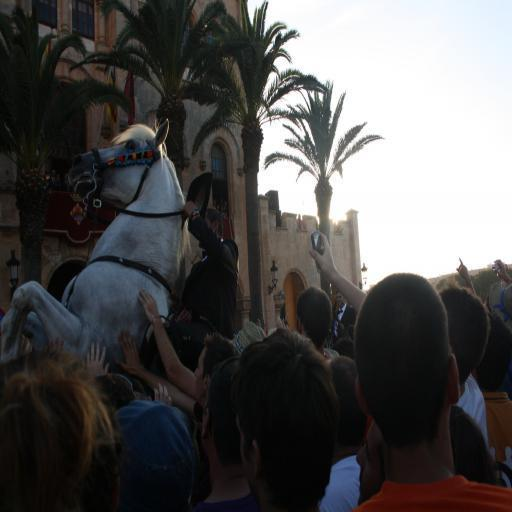horse: (0, 115, 193, 381)
